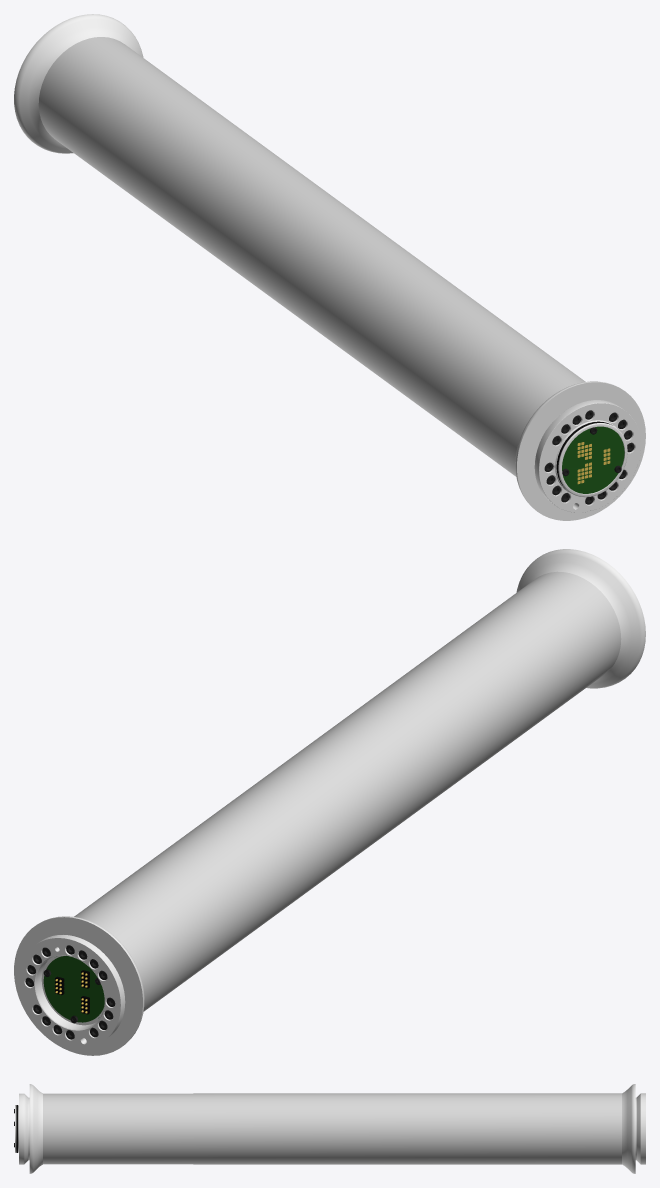
The picture shows the model from 3 angles, top to bottom: view 1: azimuth 30°, elevation 25°; view 2: azimuth 150°, elevation 25°; view 3: azimuth 270°, elevation 25°; orthographic projection. The views are drawn at different scales.
Parts seen in each view (by area): view 1: I86.001; view 2: I86.001; view 3: I86.001.
Part boxes in pixels (box(x1,y1,x2,y2)): I86.001: box(14, 14, 645, 520); I86.001: box(14, 549, 645, 1055); I86.001: box(14, 1084, 645, 1173).
Size of the model in its own units: 0.086 by 0.086 by 0.6048.
